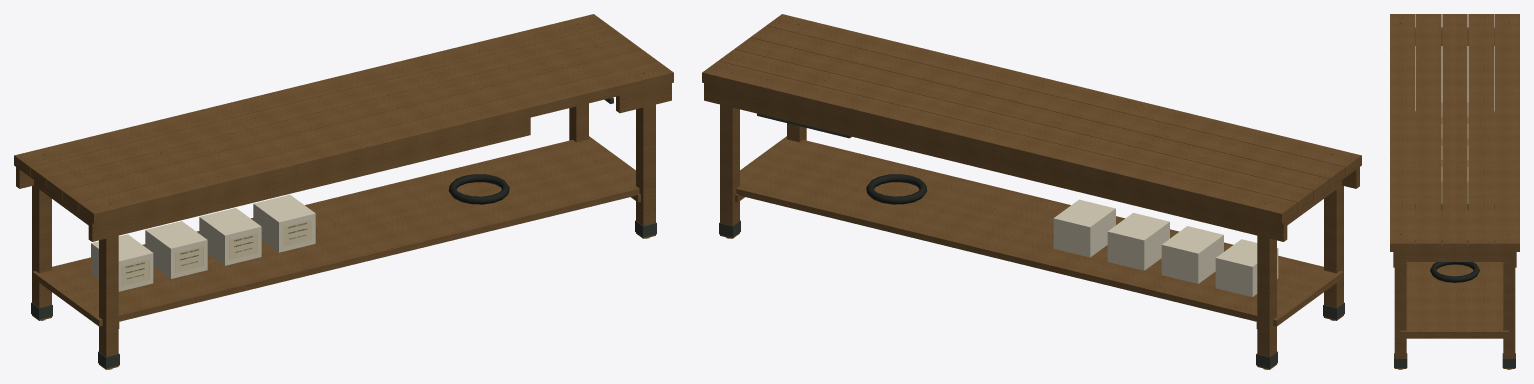
File: SM_FieldKit_TimingBench.glb
3 renders of one model, left to right at view 1: azimuth 30°, elevation 25°; view 2: azimuth 150°, elevation 25°; view 3: azimuth 270°, elevation 25°, orthographic. The views are drawn at different scales.
Visible parts, largest first — view 1: SM_FieldKit_TimingBench; view 2: SM_FieldKit_TimingBench; view 3: SM_FieldKit_TimingBench.
Boxes of the visible parts, box(x1,y1,x2,y2) form: SM_FieldKit_TimingBench: box(14, 14, 673, 369); SM_FieldKit_TimingBench: box(702, 14, 1361, 369); SM_FieldKit_TimingBench: box(1390, 14, 1519, 369).
Bounding box in the file's own units: 3 × 0.814 × 0.717.
6 materials, 3 textured.
